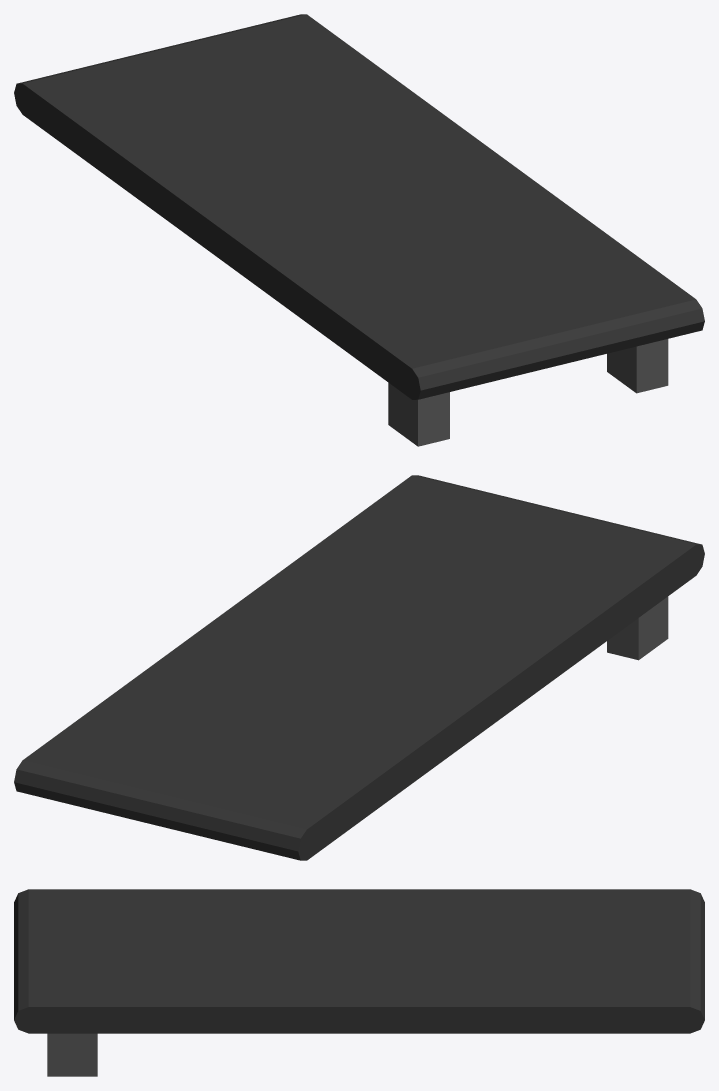
File: treadmill-r.glb
The picture shows the model from 3 angles, top to bottom: view 1: azimuth 30°, elevation 25°; view 2: azimuth 150°, elevation 25°; view 3: azimuth 270°, elevation 25°; orthographic projection. The views are drawn at different scales.
Visible parts, largest first — view 1: Treadmill_R; view 2: Treadmill_R; view 3: Treadmill_R.
Part boxes in pixels (left/top/right/bottom): Treadmill_R: left=14, top=14, right=704, bottom=446; Treadmill_R: left=14, top=475, right=704, bottom=860; Treadmill_R: left=14, top=889, right=704, bottom=1076.
Size of the model in its own units: 58.91 by 17.86 by 146.
1 material, 1 textured.
